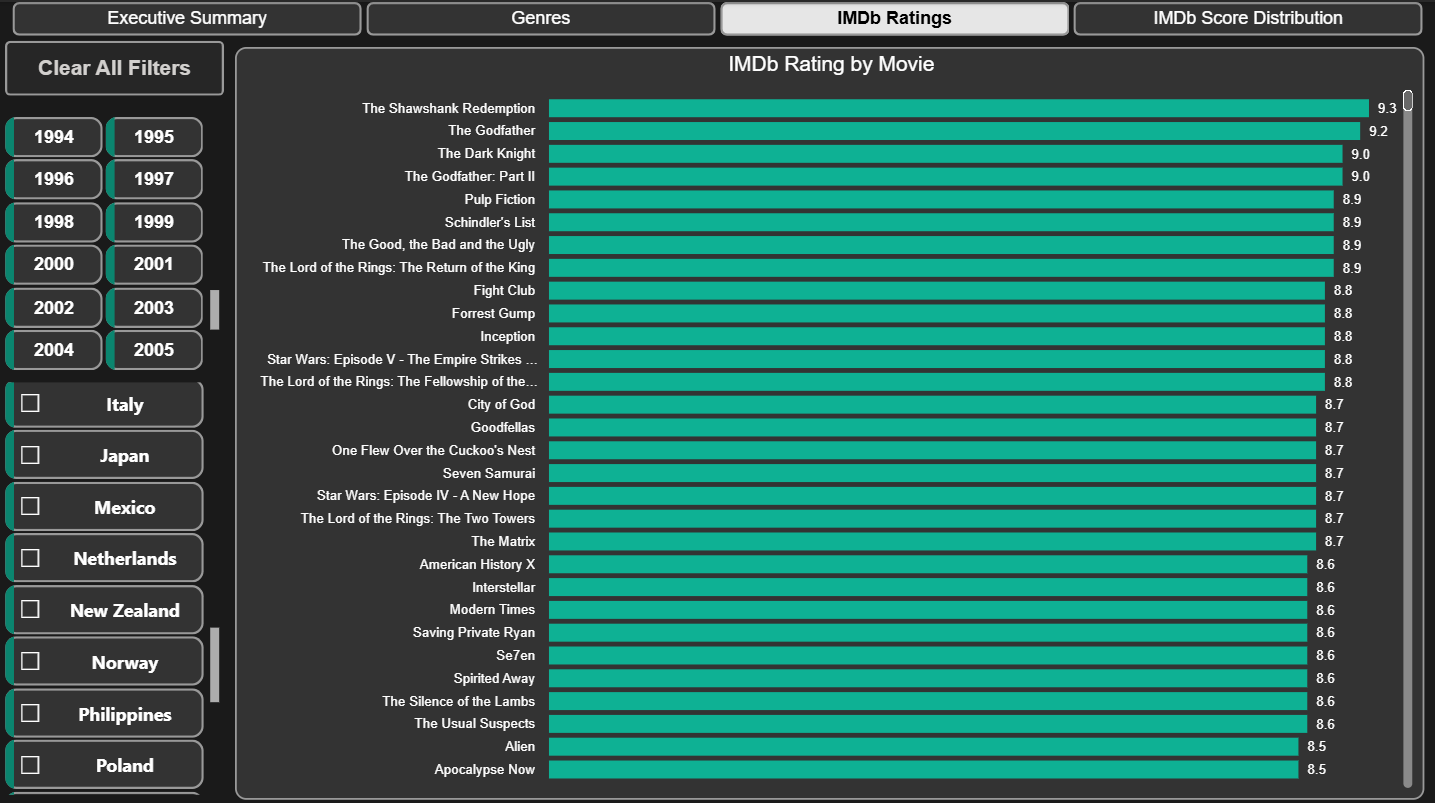

What the dashboard file says about the page in this screenshot:
{"tool":"powerbi","page":{"name":"IMDb Ratings","canvas":[1280,720],"ordinal":2},"visuals":[{"type":"pageNavigator","box":[11,0,1258.3,30.2],"z":0},{"type":"actionButton","box":[4.9,34.4,195.1,49.1],"z":1000},{"type":"advancedSlicerVisual","fields":{"Values":["cleaned_movies.title_year"]},"box":[0,95.7,200,238],"z":2000},{"type":"listSlicer","fields":{"Values":["cleaned_movies.country"]},"box":[0,333.7,200,376.7],"z":3000},{"type":"clusteredBarChart","fields":{"Y":["Sum(cleaned_movies.imdb_score)"],"Category":["cleaned_movies.movie_title"]},"box":[209.8,40.2,1058.9,670.2],"z":4500}]}

Visuals, with their boxes in screenshot pixels (x1, y1, x2, y2), scaled from the page's 1280x720 canvas onto the 1435x803 screenshot:
pageNavigator: BBox(12, 0, 1423, 34)
actionButton: BBox(5, 38, 224, 93)
advancedSlicerVisual - cleaned_movies.title_year: BBox(0, 107, 224, 372)
listSlicer - cleaned_movies.country: BBox(0, 372, 224, 792)
clusteredBarChart - Sum(cleaned_movies.imdb_score) x cleaned_movies.movie_title: BBox(235, 45, 1422, 792)
